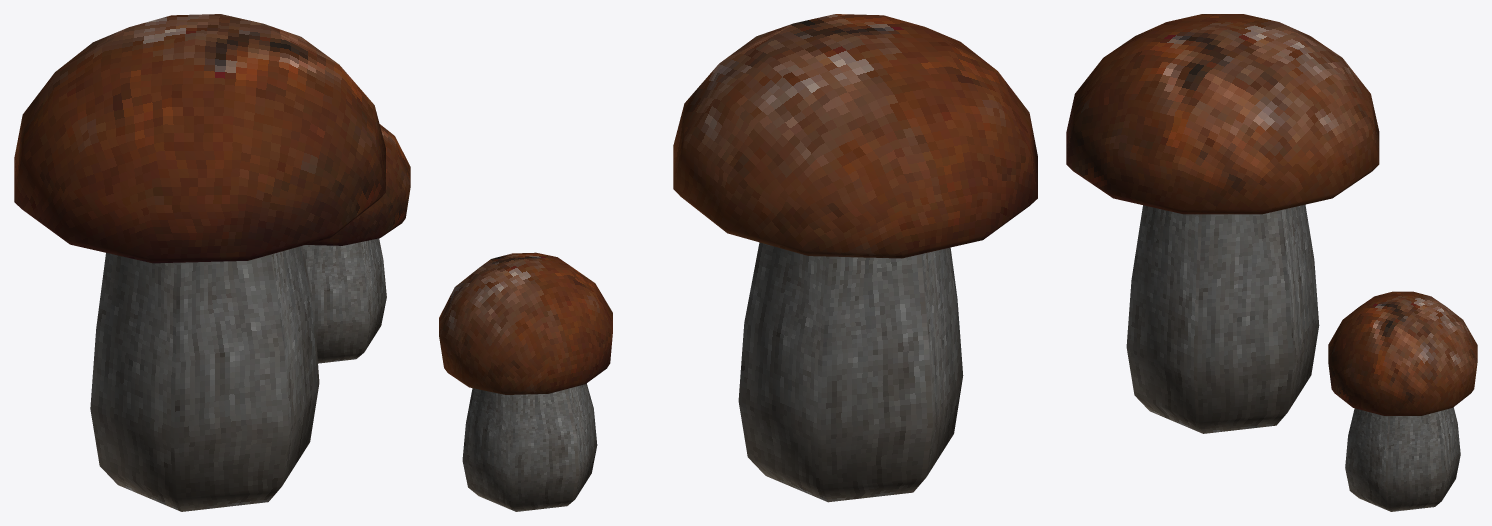
Rendered from mushroom_n_1_2.glb.
3 renders of one model, left to right at view 1: azimuth 30°, elevation 25°; view 2: azimuth 150°, elevation 25°; view 3: azimuth 270°, elevation 25°, orthographic. The views are drawn at different scales.
Visible parts, largest first — view 1: mushroom_n_1_2; view 2: mushroom_n_1_2; view 3: mushroom_n_1_2.
Boxes of the visible parts, x1,y1,x2,y2 form: mushroom_n_1_2: (14,14,410,511); mushroom_n_1_2: (439,14,1037,511); mushroom_n_1_2: (1066,14,1477,511).
Size of the model in its own units: 0.1455 by 0.1306 by 0.1319.
Materials: 1 (1 with a texture image).
